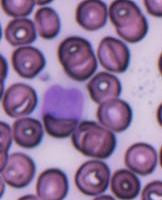L: (41, 81, 88, 121)
